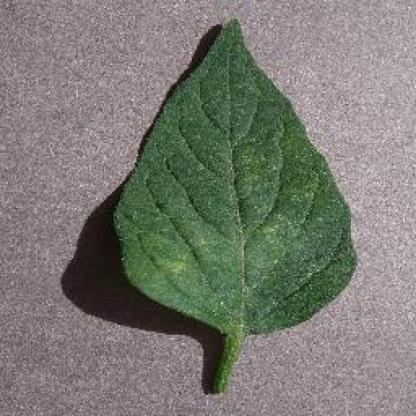Tomato_Spider_Mites: (115, 20, 356, 334)
